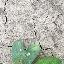Morning glory: (0, 37, 64, 64), (10, 0, 64, 2)
